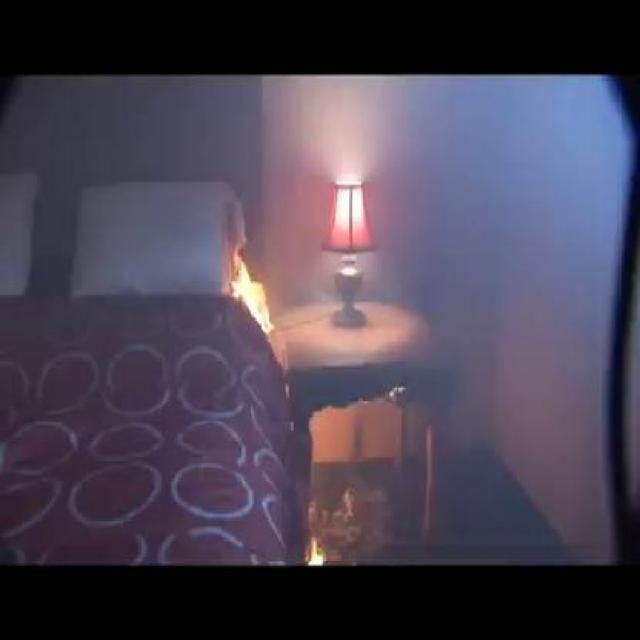fire: (224, 224, 287, 338)
